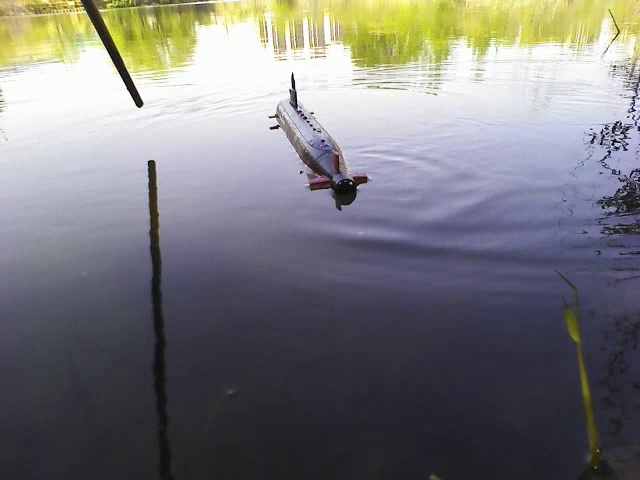submarine: (269, 70, 370, 198)
